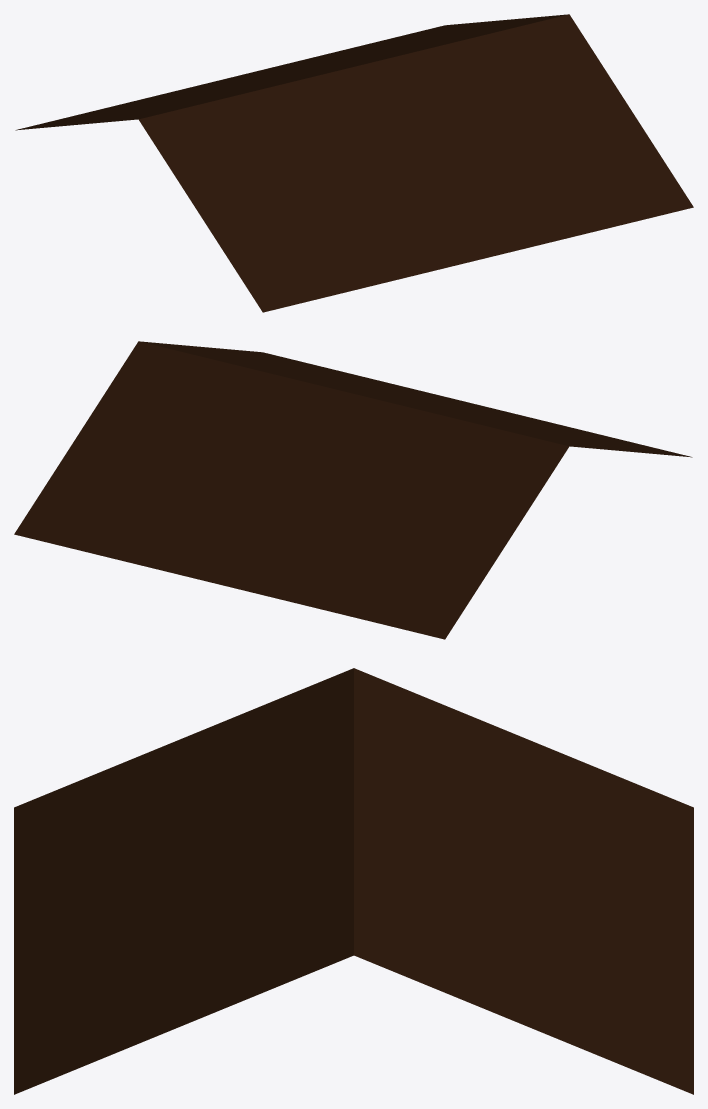
File: Roof_01D.fbx
3 renders of one model, top to bottom at view 1: azimuth 30°, elevation 25°; view 2: azimuth 150°, elevation 25°; view 3: azimuth 270°, elevation 25°, orthographic. The views are drawn at different scales.
Visible parts, largest first — view 1: Roof_01D; view 2: Roof_01D; view 3: Roof_01D.
Part boxes in pixels (box(x1,y1,x2,y2)): Roof_01D: box(15, 14, 693, 312); Roof_01D: box(14, 341, 692, 639); Roof_01D: box(14, 668, 693, 1094).
Size of the model in its own units: 300 by 67.9 by 300.
